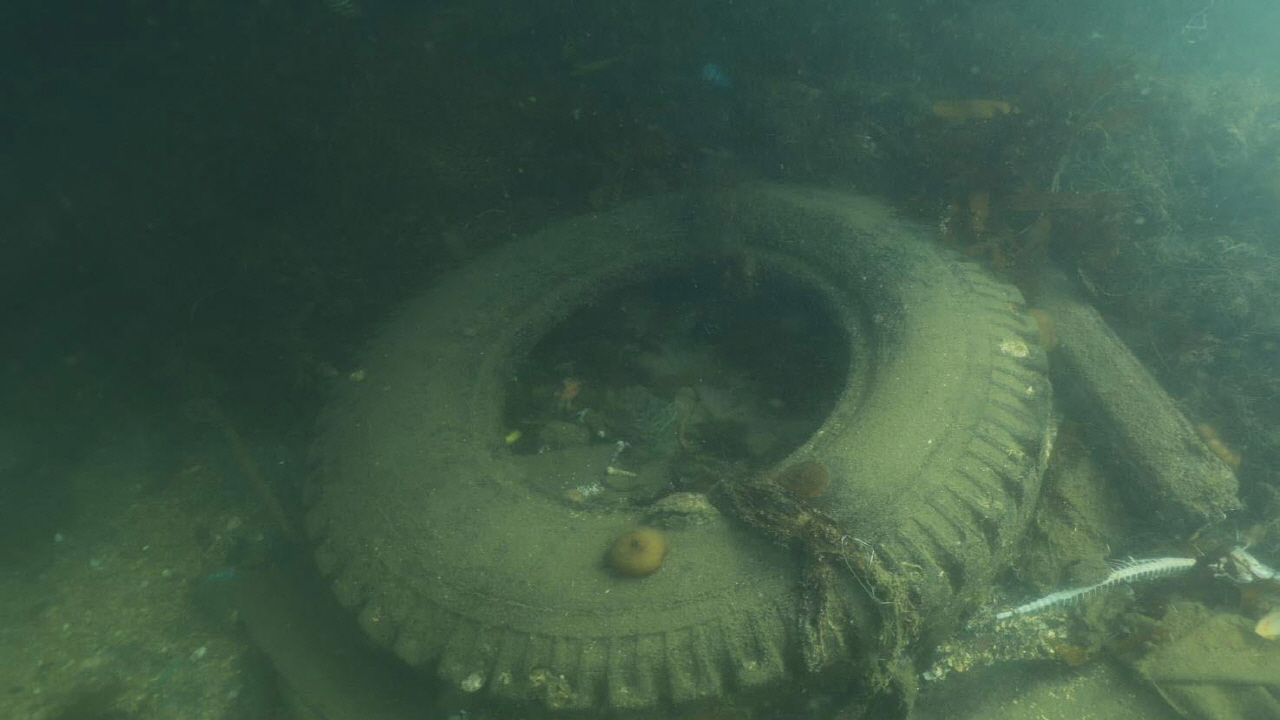eel fish trap: (1034, 264, 1244, 549)
tire: (304, 178, 1051, 720)
